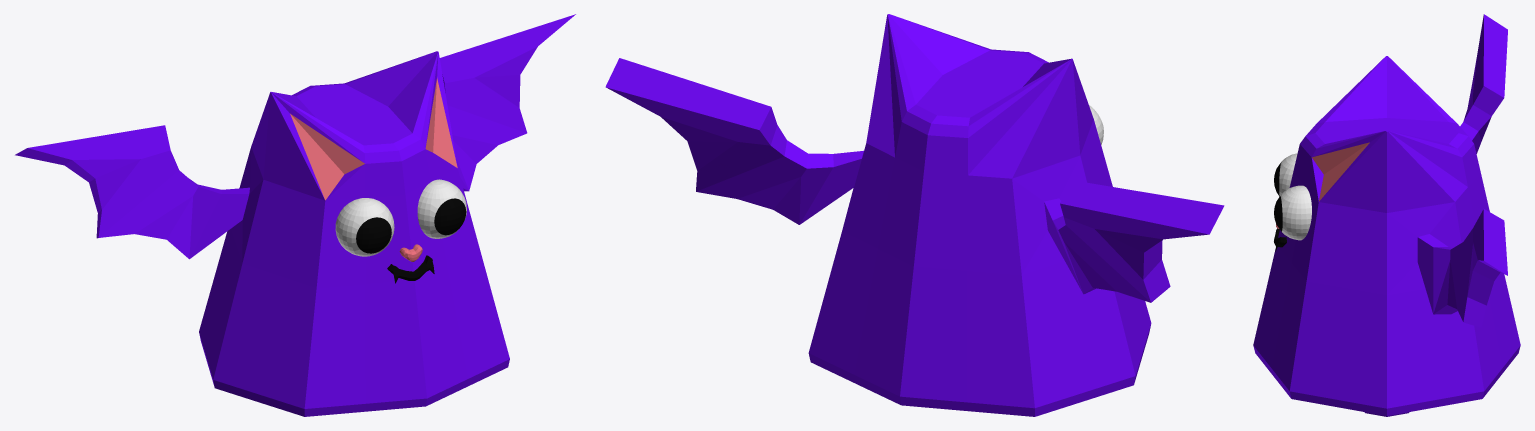
File: bat.glb
The picture shows the model from 3 angles, left to right: view 1: azimuth 30°, elevation 25°; view 2: azimuth 150°, elevation 25°; view 3: azimuth 270°, elevation 25°; orthographic projection. The views are drawn at different scales.
Parts seen in each view (by area): view 1: bat_body, bat_wing_L, bat_wing_R, bat_eyes, bat_mouth; view 2: bat_body, bat_wing_R, bat_wing_L; view 3: bat_body, bat_wing_R, bat_wing_L, bat_eyes.
Part boxes in pixels (x1,y1,x2,y2): bat_body: (190, 51, 509, 416); bat_wing_L: (15, 125, 304, 416); bat_wing_R: (439, 14, 575, 191); bat_eyes: (335, 179, 466, 256); bat_mouth: (387, 255, 434, 283); bat_body: (799, 14, 1151, 416); bat_wing_R: (605, 58, 833, 224); bat_wing_L: (1035, 180, 1224, 416); bat_body: (1253, 56, 1520, 416); bat_wing_R: (1289, 209, 1507, 415); bat_wing_L: (1460, 14, 1507, 153); bat_eyes: (1274, 153, 1311, 240).
Size of the model in its own units: 0.6994 by 0.3865 by 0.3205.
